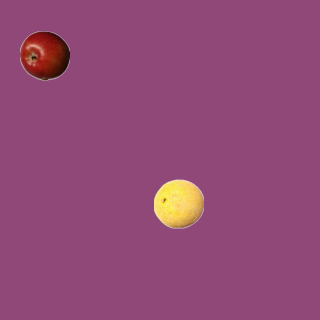Apple Braeburn: (19, 30, 69, 80)
Cantaloupe 1: (153, 178, 203, 228)
